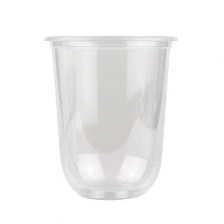glass: (33, 27, 186, 204)
